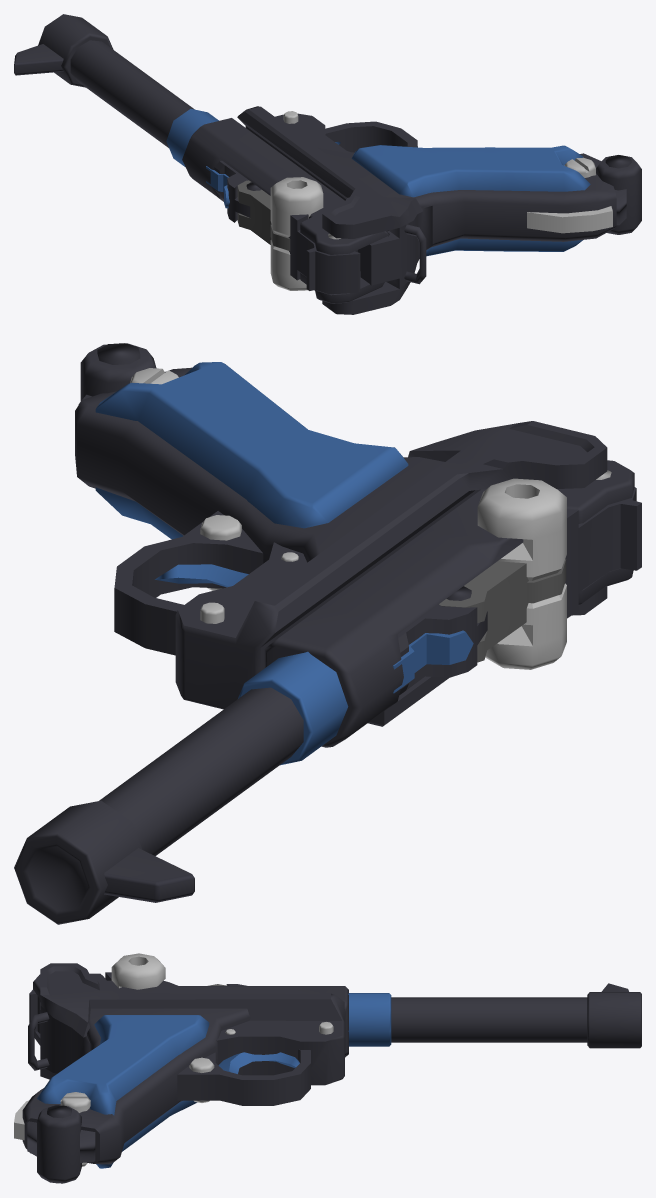
Rendered from ako.glb.
3 renders of one model, top to bottom at view 1: azimuth 30°, elevation 25°; view 2: azimuth 150°, elevation 25°; view 3: azimuth 270°, elevation 25°, orthographic. The views are drawn at different scales.
Visible parts, largest first — view 1: Ako_Original_Weapon; view 2: Ako_Original_Weapon; view 3: Ako_Original_Weapon.
Part boxes in pixels (box(x1,y1,x2,y2)): Ako_Original_Weapon: box(14, 14, 641, 314); Ako_Original_Weapon: box(14, 343, 641, 924); Ako_Original_Weapon: box(14, 953, 641, 1183).
Bounding box in the file's own units: 0.1596 × 0.0472 × 0.2567.
Materials: 1 (1 with a texture image).
